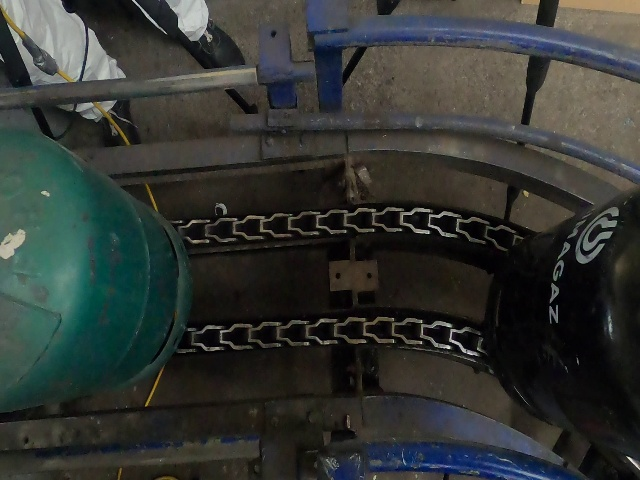gas_bottle: (4, 3, 640, 478)
